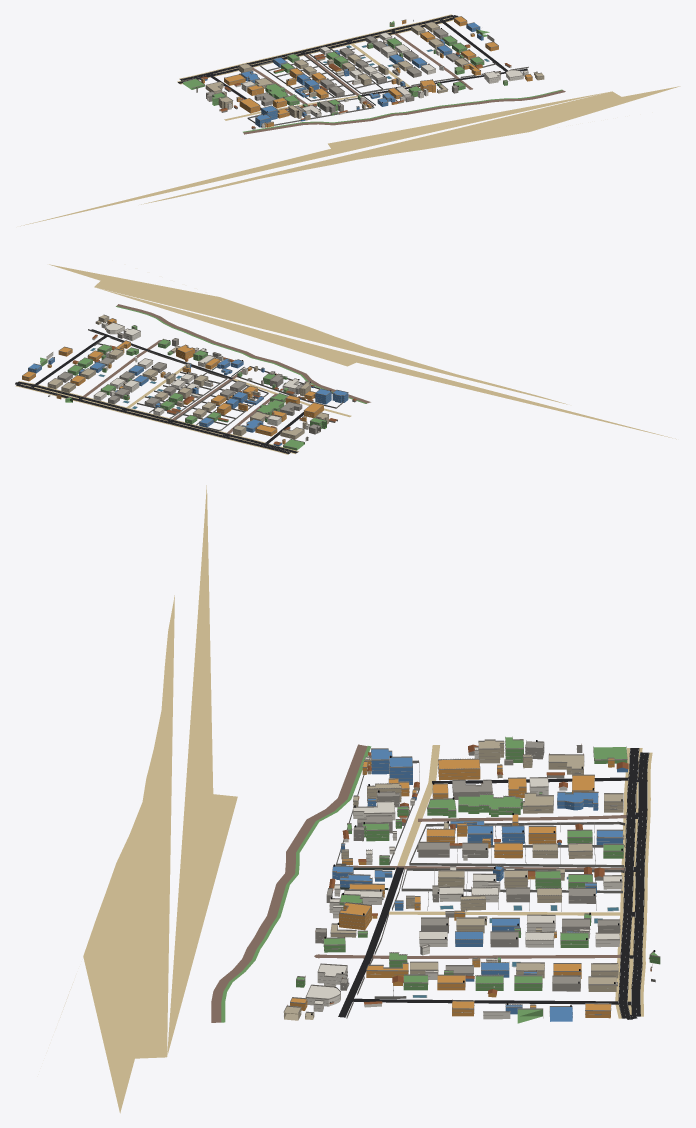
Rendered from zone_t0_-1.glb.
The picture shows the model from 3 angles, top to bottom: view 1: azimuth 30°, elevation 25°; view 2: azimuth 150°, elevation 25°; view 3: azimuth 270°, elevation 25°; orthographic projection. The views are drawn at different scales.
Parts seen in each view (by area): view 1: zone_plage_t0_-1, parapet_t0_-1, bld_peinture_ocre_t0_-1-col, bld_peinture_ecaillee_t0_-1-col, bld_peinture_vert_t0_-1-col, bld_peinture_blanc_t0_-1-col, bld_beton_t0_-1-col, bld_peinture_bleu_t0_-1-col, mur_wall_t0_-1-col, route_secondary_bitume_t0_-1, promenade_t0_-1, accotement_t0_-1 (+6 smaller); view 2: zone_plage_t0_-1, parapet_t0_-1, bld_peinture_ocre_t0_-1-col, bld_peinture_vert_t0_-1-col, bld_peinture_ecaillee_t0_-1-col, bld_peinture_blanc_t0_-1-col, bld_peinture_bleu_t0_-1-col, bld_beton_t0_-1-col, route_secondary_bitume_t0_-1, mur_wall_t0_-1-col, accotement_t0_-1, promenade_t0_-1 (+6 smaller); view 3: zone_plage_t0_-1, parapet_t0_-1, bld_peinture_vert_t0_-1-col, bld_peinture_ecaillee_t0_-1-col, bld_peinture_ocre_t0_-1-col, bld_peinture_blanc_t0_-1-col, bld_beton_t0_-1-col, bld_peinture_bleu_t0_-1-col, route_secondary_bitume_t0_-1, mur_wall_t0_-1-col, promenade_t0_-1, bandeau_t0_-1 (+6 smaller).
Boxes of the visible parts, left/top/right/bottom form: zone_plage_t0_-1: left=20, top=86, right=680, bottom=226; parapet_t0_-1: left=183, top=16, right=543, bottom=124; bld_peinture_ocre_t0_-1-col: left=201, top=16, right=532, bottom=127; bld_peinture_ecaillee_t0_-1-col: left=205, top=22, right=544, bottom=120; bld_peinture_vert_t0_-1-col: left=183, top=21, right=507, bottom=115; bld_peinture_blanc_t0_-1-col: left=227, top=33, right=528, bottom=128; bld_beton_t0_-1-col: left=196, top=29, right=500, bottom=129; bld_peinture_bleu_t0_-1-col: left=199, top=22, right=483, bottom=127; mur_wall_t0_-1-col: left=247, top=20, right=528, bottom=127; route_secondary_bitume_t0_-1: left=178, top=15, right=457, bottom=83; promenade_t0_-1: left=243, top=90, right=565, bottom=134; accotement_t0_-1: left=177, top=14, right=453, bottom=84; zone_plage_t0_-1: left=49, top=264, right=676, bottom=439; parapet_t0_-1: left=22, top=314, right=348, bottom=448; bld_peinture_ocre_t0_-1-col: left=22, top=318, right=323, bottom=444; bld_peinture_vert_t0_-1-col: left=40, top=325, right=326, bottom=450; bld_peinture_ecaillee_t0_-1-col: left=47, top=315, right=328, bottom=439; bld_peinture_blanc_t0_-1-col: left=46, top=322, right=348, bottom=429; bld_peinture_bleu_t0_-1-col: left=28, top=357, right=348, bottom=446; bld_beton_t0_-1-col: left=57, top=333, right=356, bottom=441; route_secondary_bitume_t0_-1: left=15, top=381, right=297, bottom=454; mur_wall_t0_-1-col: left=48, top=329, right=343, bottom=430; accotement_t0_-1: left=15, top=381, right=298, bottom=454; promenade_t0_-1: left=117, top=304, right=370, bottom=403; zone_plage_t0_-1: left=60, top=485, right=237, bottom=1113; parapet_t0_-1: left=283, top=736, right=660, bottom=1015; bld_peinture_vert_t0_-1-col: left=296, top=737, right=660, bottom=1023; bld_peinture_ecaillee_t0_-1-col: left=284, top=740, right=623, bottom=1020; bld_peinture_ocre_t0_-1-col: left=290, top=758, right=614, bottom=1018; bld_peinture_blanc_t0_-1-col: left=306, top=747, right=622, bottom=1019; bld_beton_t0_-1-col: left=315, top=741, right=620, bottom=991; bld_peinture_bleu_t0_-1-col: left=332, top=749, right=627, bottom=1021; route_secondary_bitume_t0_-1: left=618, top=748, right=649, bottom=1019; mur_wall_t0_-1-col: left=336, top=760, right=655, bottom=1018; promenade_t0_-1: left=211, top=744, right=367, bottom=1022; bandeau_t0_-1: left=284, top=741, right=658, bottom=1018.
Bounding box in the file's own units: 1180 × 17 × 494.
